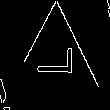L_W: (33, 57, 78, 89)
